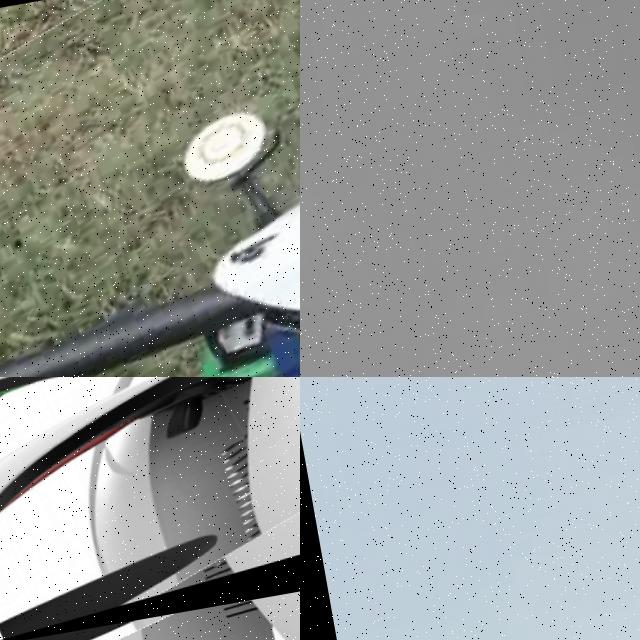0: (0, 0, 300, 377)
drone: (0, 377, 300, 640)
